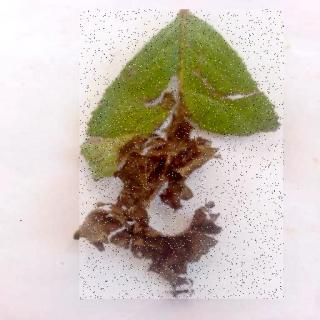Brown Blight: (81, 11, 285, 301)
